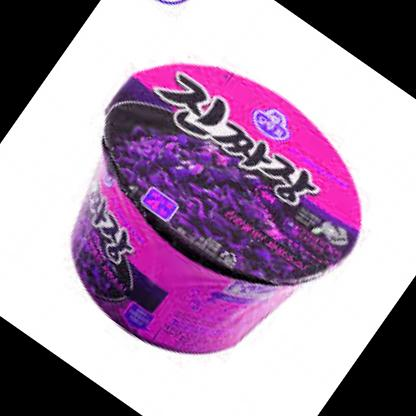Ramen: (6, 17, 394, 404)
